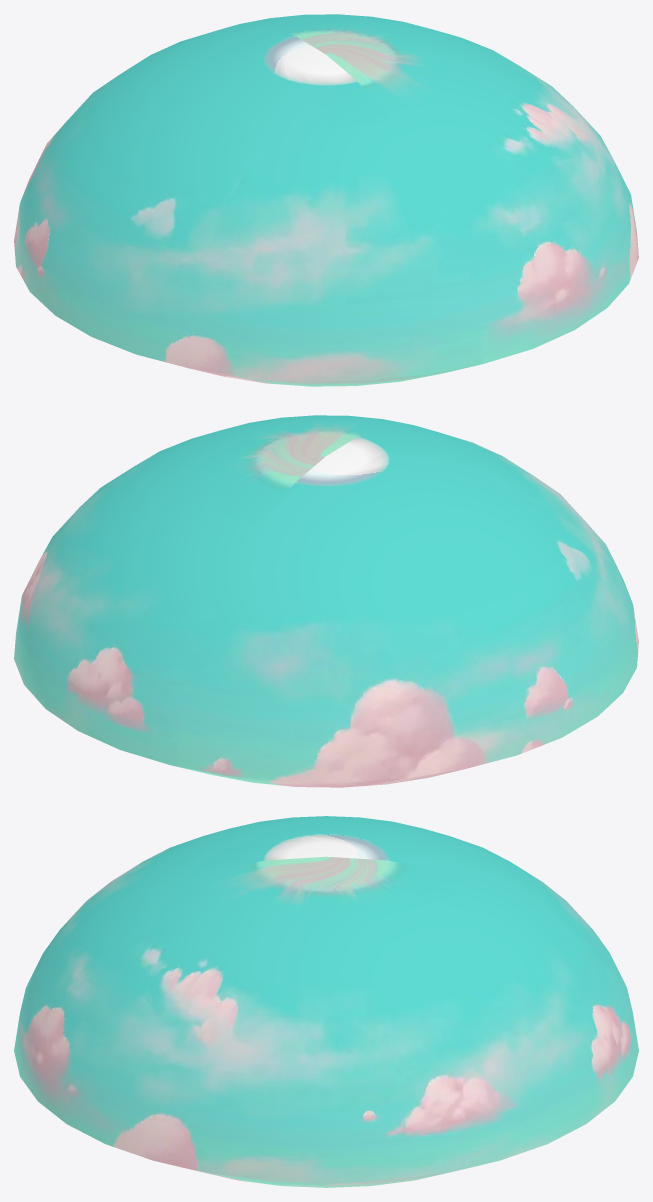
The model's file is sugar_rush.glb.
The picture shows the model from 3 angles, top to bottom: view 1: azimuth 30°, elevation 25°; view 2: azimuth 150°, elevation 25°; view 3: azimuth 270°, elevation 25°; orthographic projection.
Visible parts, largest first — view 1: sky_tgsd; view 2: sky_tgsd; view 3: sky_tgsd.
Boxes of the visible parts, bbox=[...] form: sky_tgsd: bbox=[14, 14, 638, 386]; sky_tgsd: bbox=[14, 415, 638, 787]; sky_tgsd: bbox=[14, 816, 638, 1187].
Size of what is drawn, in the model's own units: 33.23 by 15.62 by 33.23.
15 materials, 14 textured.
